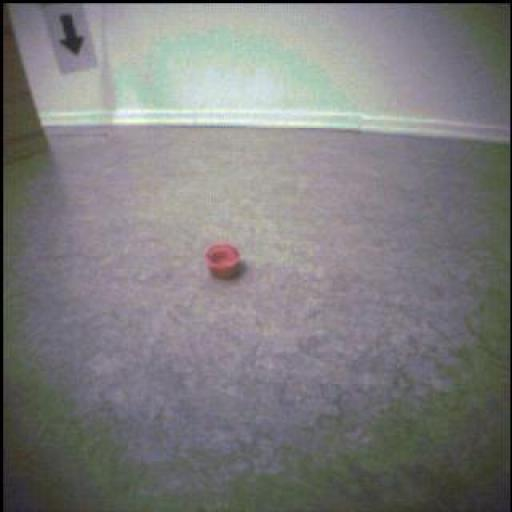Arrow: (60, 16, 84, 56)
Bucket: (204, 241, 244, 282)
